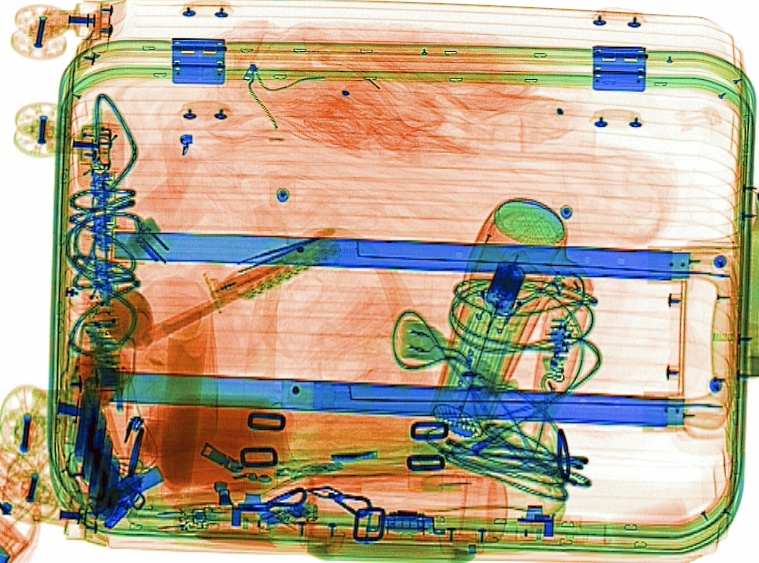powerbank: (65, 382, 131, 528)
